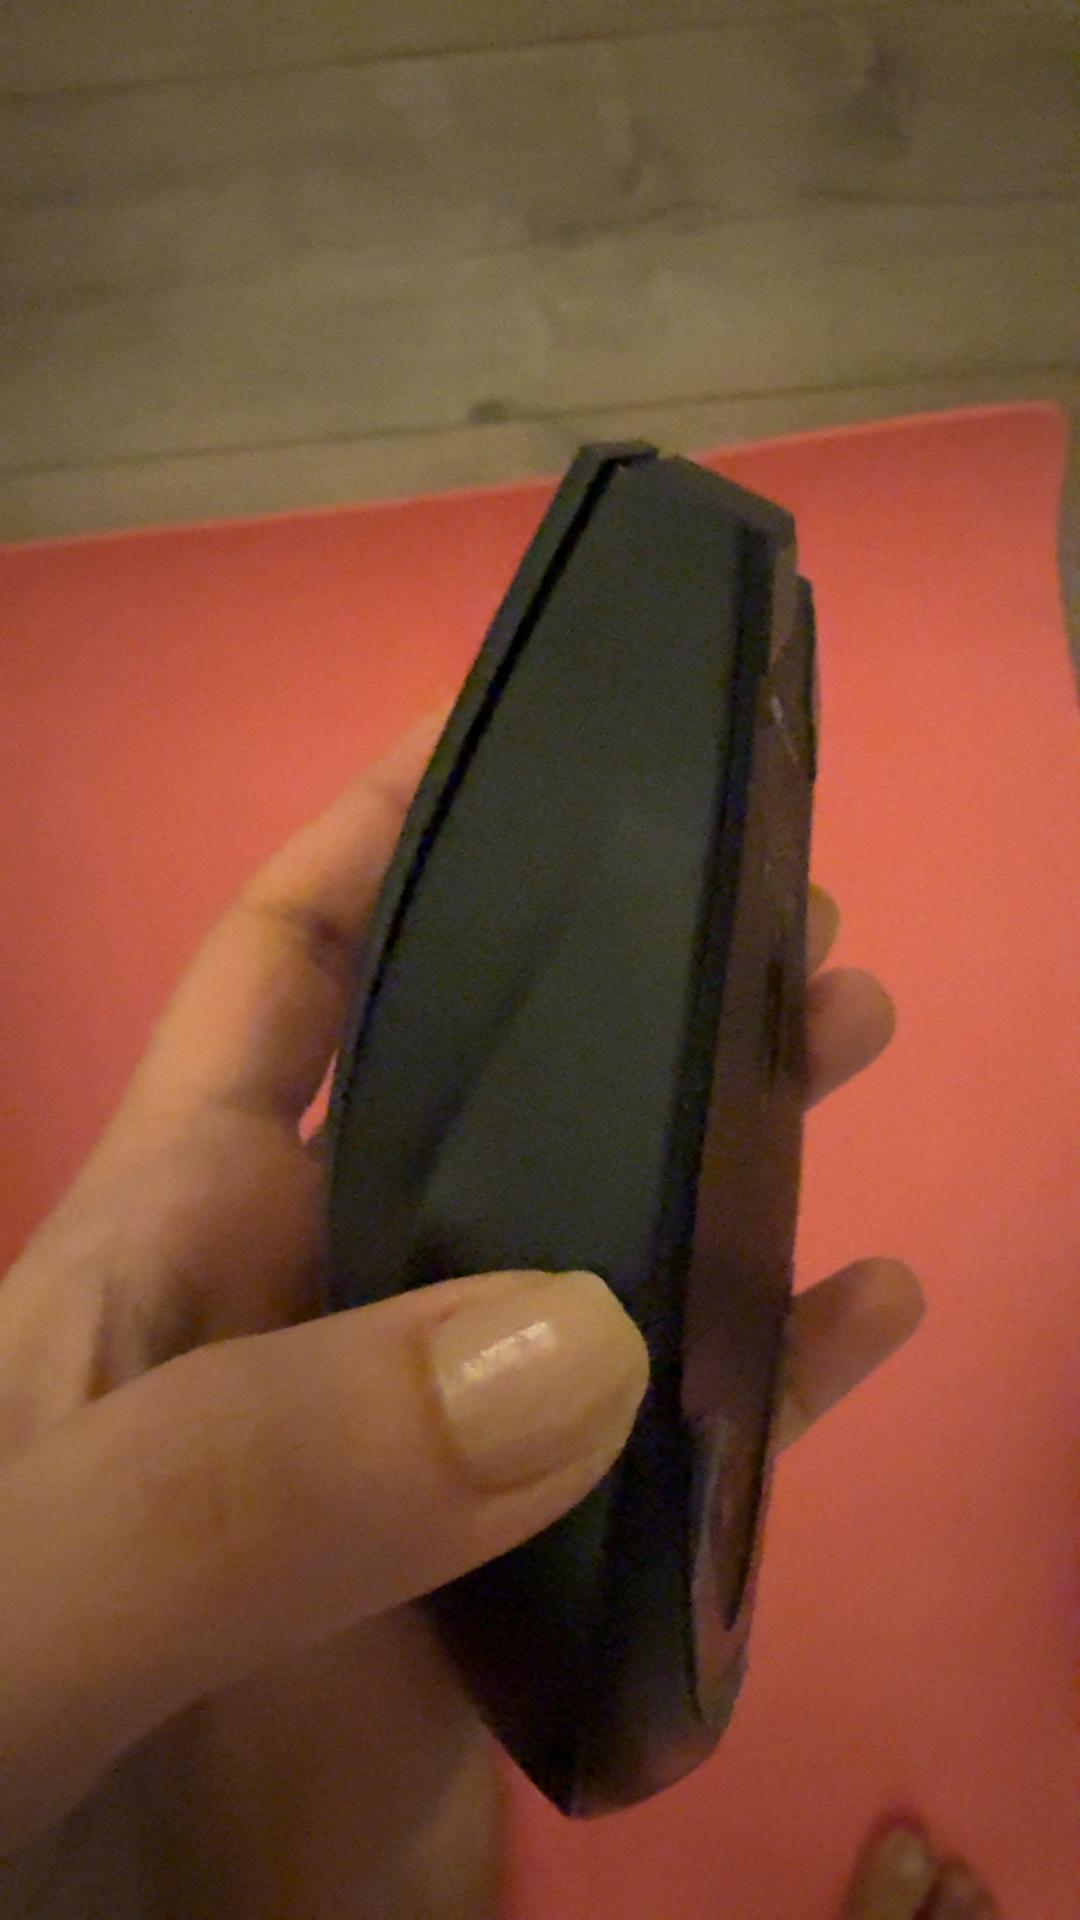Mouse: (253, 430, 800, 1822)
